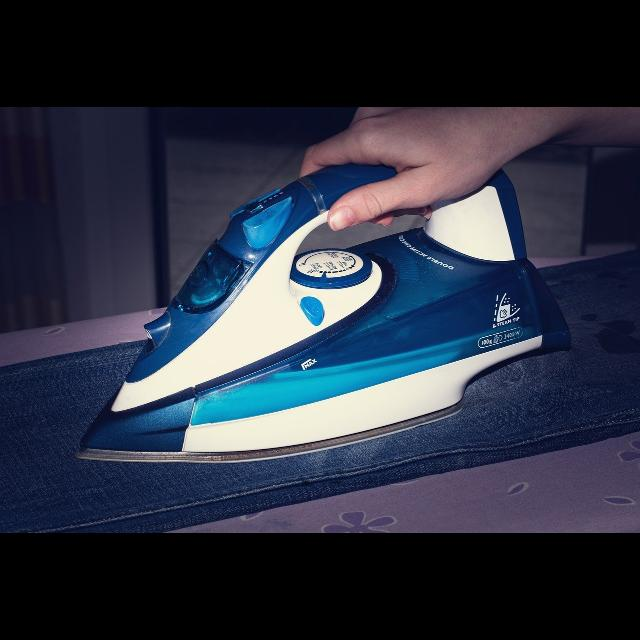Clothes-Iron: (144, 170, 524, 434)
